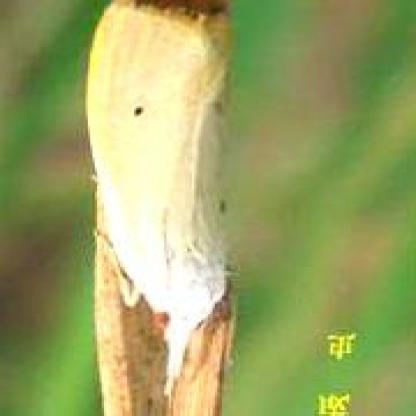stem-borer: (83, 0, 233, 398)
